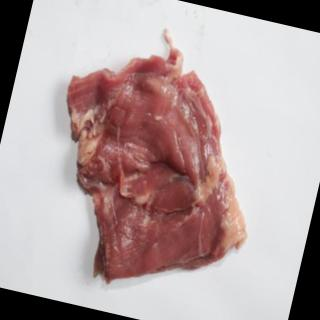Daging Sapi: (29, 32, 283, 311)
